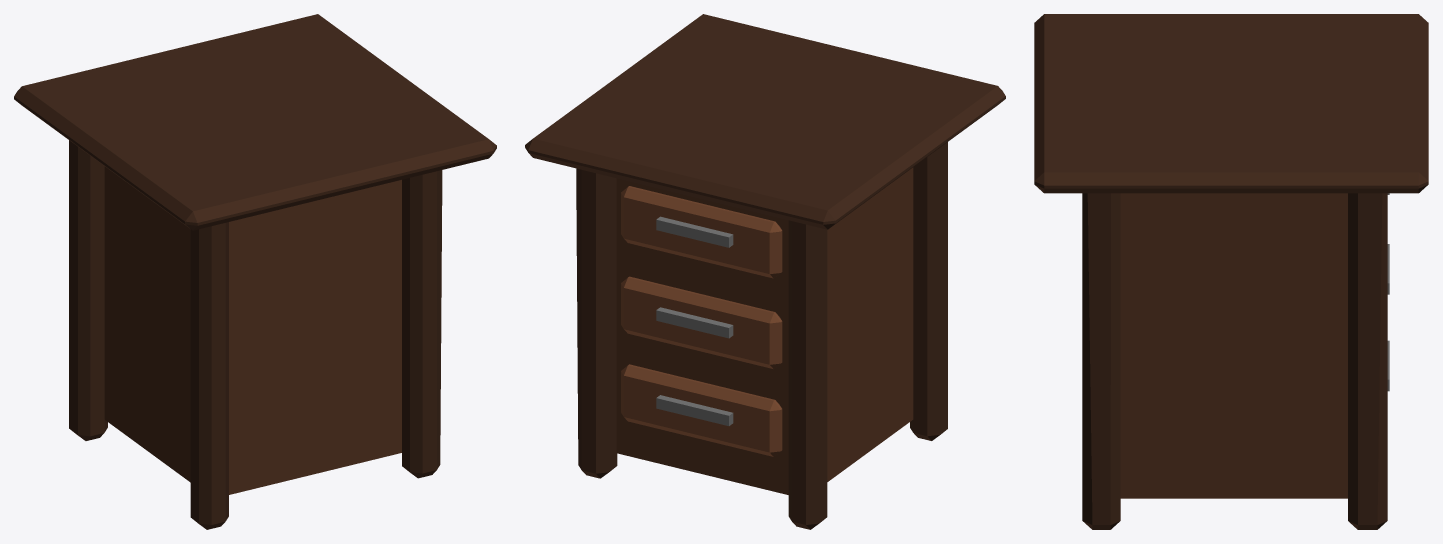
Rendered from desser_fixed.fbx.
3 renders of one model, left to right at view 1: azimuth 30°, elevation 25°; view 2: azimuth 150°, elevation 25°; view 3: azimuth 270°, elevation 25°, orthographic. The views are drawn at different scales.
Visible parts, largest first — view 1: Cube; view 2: Cube; view 3: Cube.
Boxes of the visible parts, x1,y1,x2,y2 form: Cube: [14, 14, 496, 529]; Cube: [525, 14, 1005, 529]; Cube: [1034, 14, 1428, 529].
Bounding box in the file's own units: 317 × 333 × 317.
